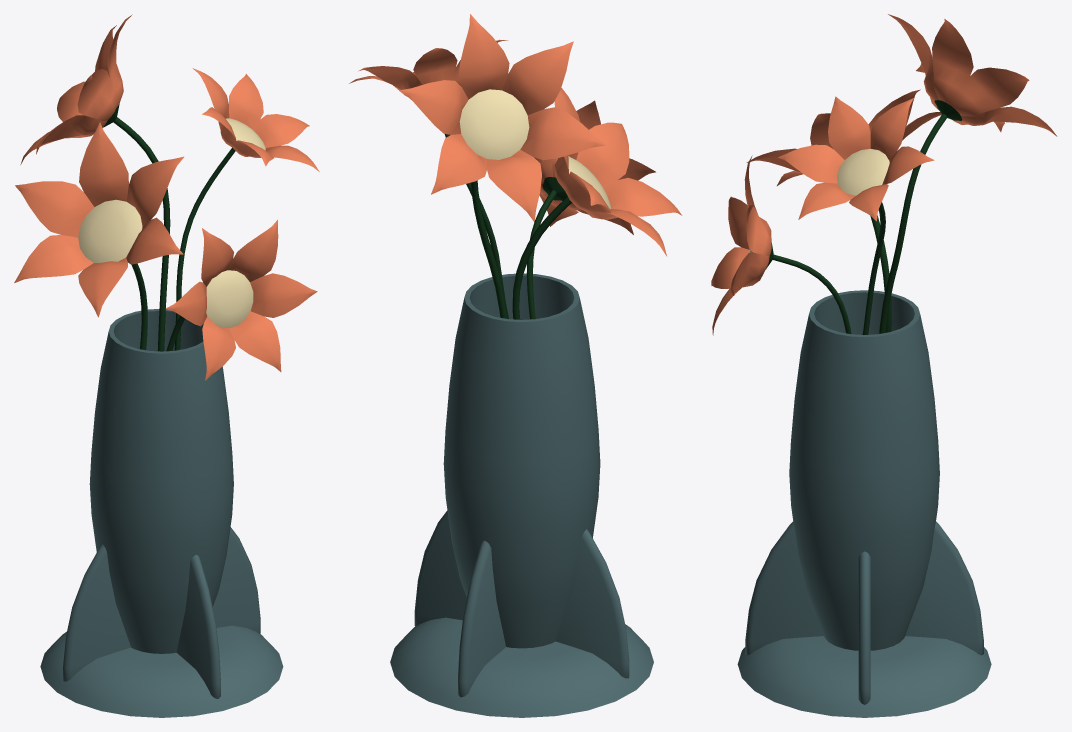
Rendered from FI_034_big_flower_pot.glb.
The picture shows the model from 3 angles, left to right: view 1: azimuth 30°, elevation 25°; view 2: azimuth 150°, elevation 25°; view 3: azimuth 270°, elevation 25°; orthographic projection. The views are drawn at different scales.
Visible parts, largest first — view 1: big_flower_pot; view 2: big_flower_pot; view 3: big_flower_pot.
Part boxes in pixels (x1,y1,x2,y2): big_flower_pot: (14, 14, 319, 717); big_flower_pot: (349, 14, 682, 717); big_flower_pot: (711, 14, 1057, 717).
Size of the model in its own units: 1.19 by 2.4 by 1.16.
